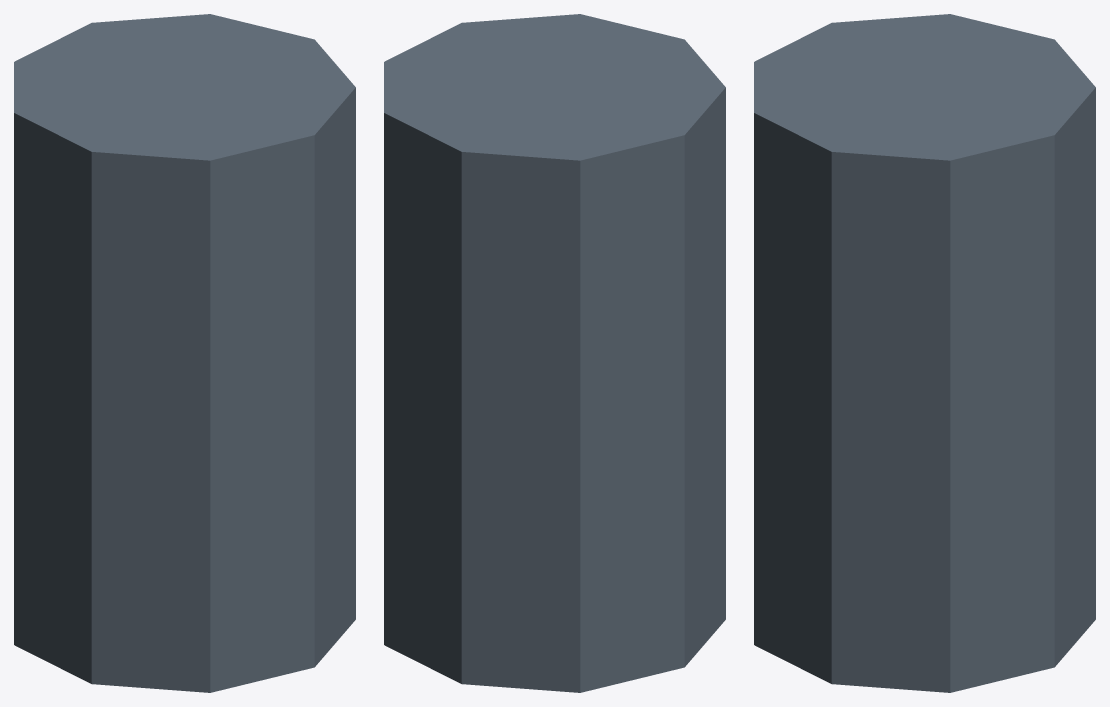
File: Column05.fbx
3 renders of one model, left to right at view 1: azimuth 30°, elevation 25°; view 2: azimuth 150°, elevation 25°; view 3: azimuth 270°, elevation 25°, orthographic.
Parts seen in each view (by area): view 1: Column05; view 2: Column05; view 3: Column05.
Part boxes in pixels (box(x1,y1,x2,y2)): Column05: box(14, 14, 355, 692); Column05: box(384, 14, 725, 692); Column05: box(754, 14, 1095, 692).
Size of the model in its own units: 29.54 by 50 by 29.1.
Materials: 1 (1 with a texture image).
